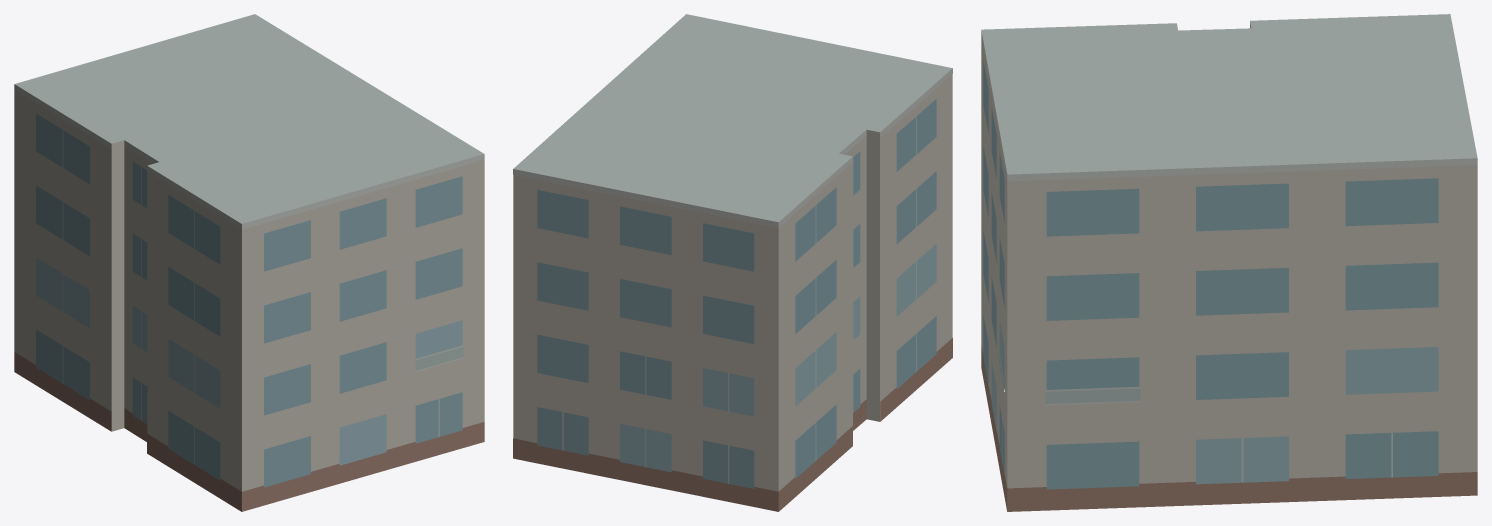
File: survey-upis-32620396.glb
3 views of the same model, side by side, from view 1: azimuth 30°, elevation 25°; view 2: azimuth 150°, elevation 25°; view 3: azimuth 270°, elevation 25° (orthographic). The views are drawn at different scales.
Parts seen in each view (by area): view 1: survey-upis-32620396.tmp; view 2: survey-upis-32620396.tmp; view 3: survey-upis-32620396.tmp.
Part boxes in pixels (box(x1,y1,x2,y2)): survey-upis-32620396.tmp: box(14, 14, 484, 511); survey-upis-32620396.tmp: box(513, 14, 952, 511); survey-upis-32620396.tmp: box(981, 14, 1477, 511).
Size of the model in its own units: 12.37 by 12.1 by 16.15.
